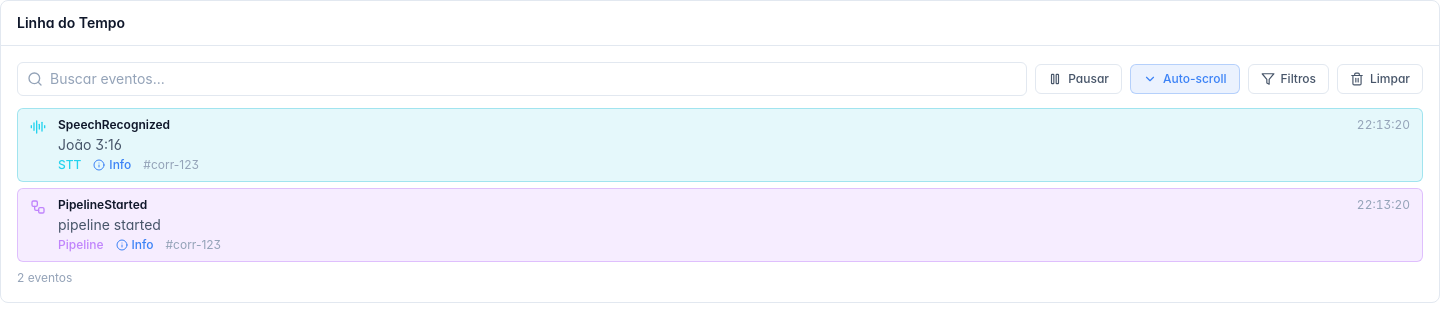
TimelinePanel › busca filtra eventos por texto
This screenshot has width=1440, height=320.
Type "João" into the field with placeholder "Buscar eventos..." at (522, 79), box 17,62 -> 1027,96
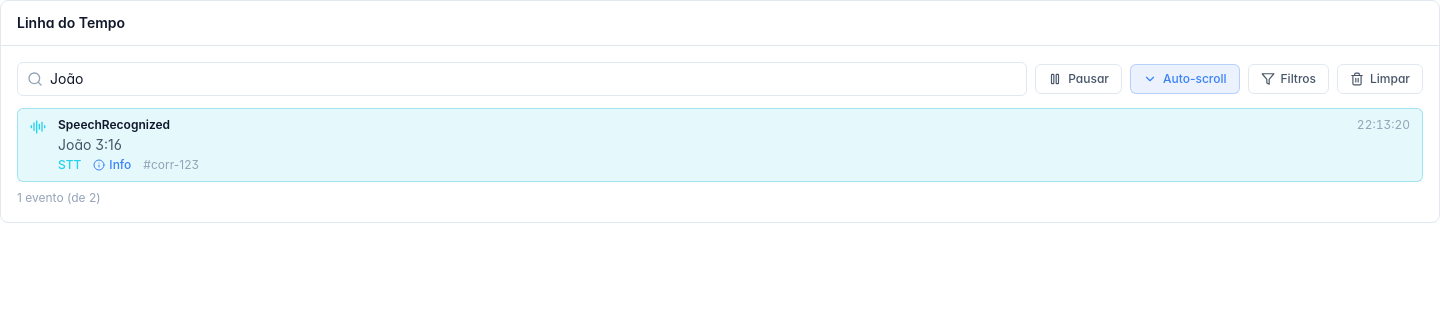
Expected: the text "SpeechRecognized" is shown, 58,117 -> 170,133
Expected: the number of elements with test id "event-card" is 1, 17,108 -> 1423,182
